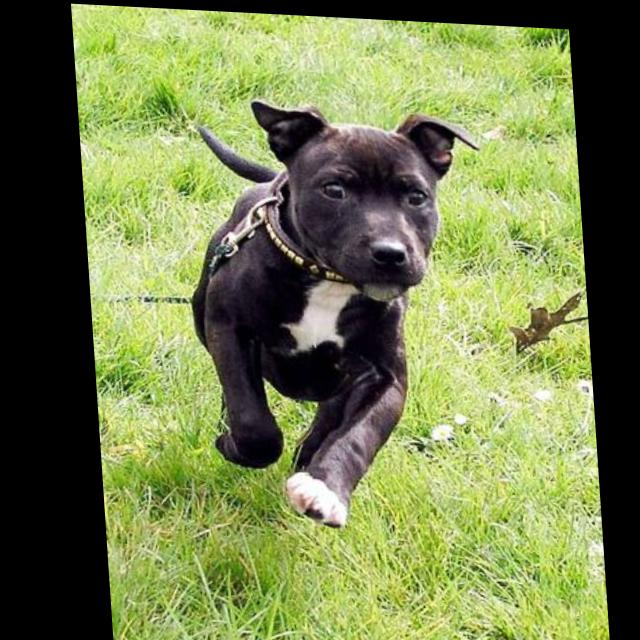staffford: (174, 92, 499, 532)
